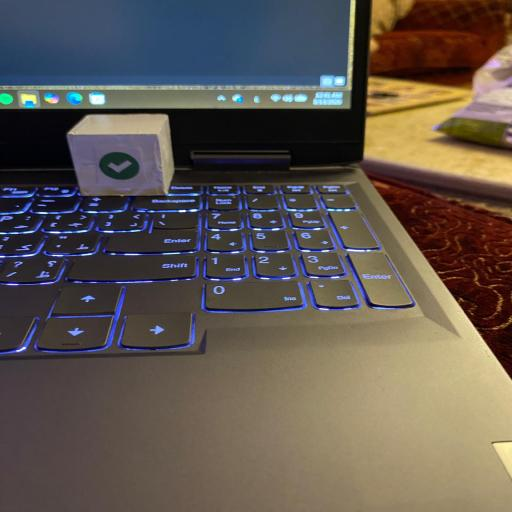Confirm: (66, 114, 176, 197)
